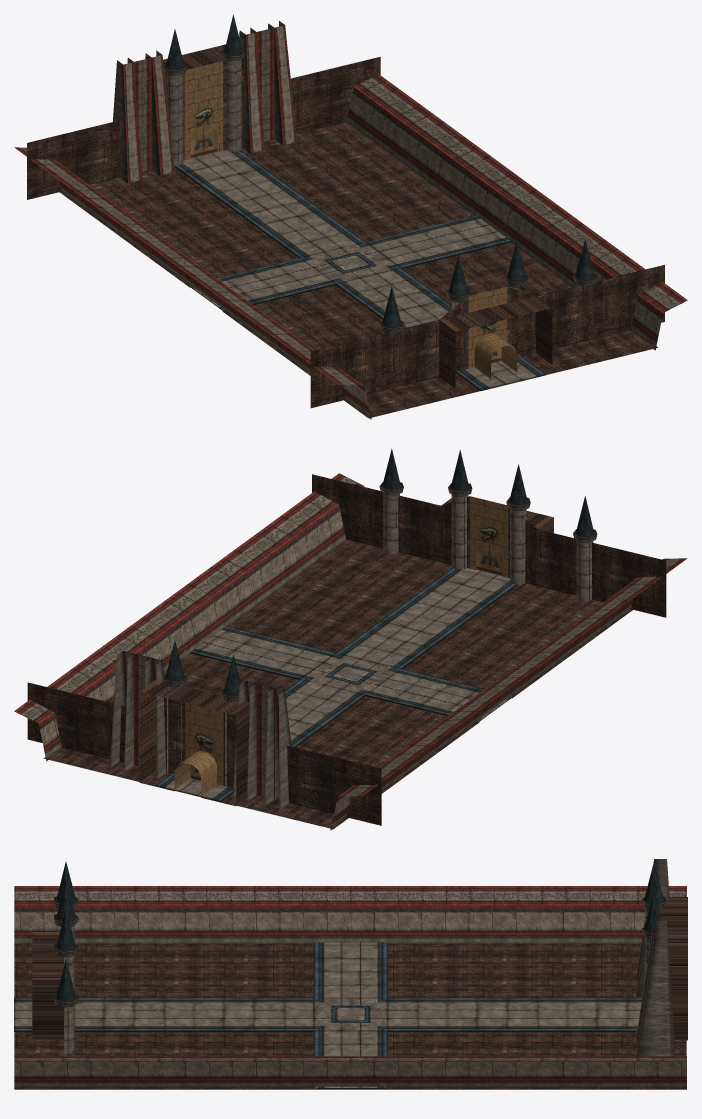
Rendered from stage01.fbx.
3 renders of one model, top to bottom at view 1: azimuth 30°, elevation 25°; view 2: azimuth 150°, elevation 25°; view 3: azimuth 270°, elevation 25°, orthographic. The views are drawn at different scales.
Visible parts, largest first — view 1: 床１, 側面, 床２, 背面, 正面２, 正面３, 正面１; view 2: 床１, 側面, 背面, 床２, 正面１, 正面３, 正面２; view 3: 側面, 床１, 床２, 背面, 正面２, 正面１.
Boxes of the visible parts, x1,y1,x2,y2 form: 床１: (59,122,657,418); 側面: (14,74,687,419); 床２: (175,150,546,390); 背面: (310,239,664,408); 正面２: (113,21,297,183); 正面３: (27,56,380,199); 正面１: (163,14,245,166); 床１: (44,539,632,829); 側面: (14,473,687,830); 背面: (312,448,666,617); 床２: (155,567,517,801); 正面１: (139,640,249,806); 正面３: (27,682,381,825); 正面２: (109,651,291,809); 側面: (14,886,686,1089); 床１: (14,943,686,1088); 床２: (14,942,642,1087); 背面: (32,861,78,1056); 正面２: (636,859,674,1056); 正面１: (641,861,687,1040).
Size of the model in its own units: 191 by 71.07 by 305.
Materials: 5 (5 with a texture image).
